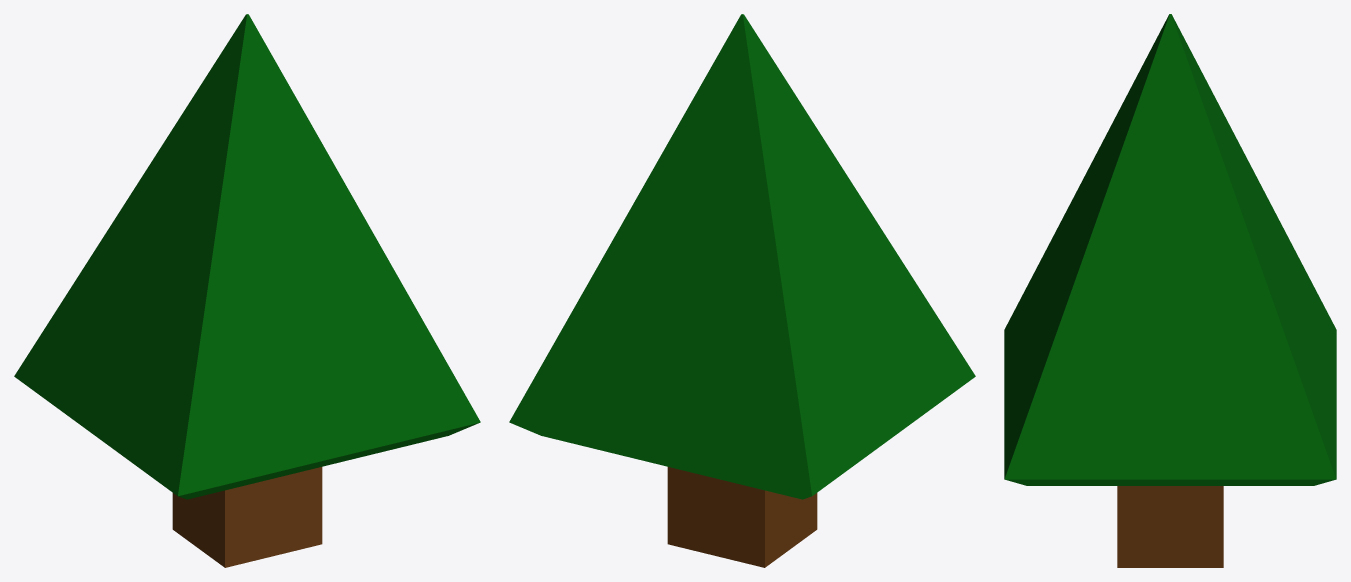
Rendered from Tree-fir.glb.
The picture shows the model from 3 angles, left to right: view 1: azimuth 30°, elevation 25°; view 2: azimuth 150°, elevation 25°; view 3: azimuth 270°, elevation 25°; orthographic projection.
Visible parts, largest first — view 1: Cube; view 2: Cube; view 3: Cube.
Part boxes in pixels (x1,y1,x2,y2): Cube: (14,14,480,567); Cube: (509,14,975,567); Cube: (1004,14,1336,567).
Bounding box in the file's own units: 3.3 × 5.43 × 3.09.
